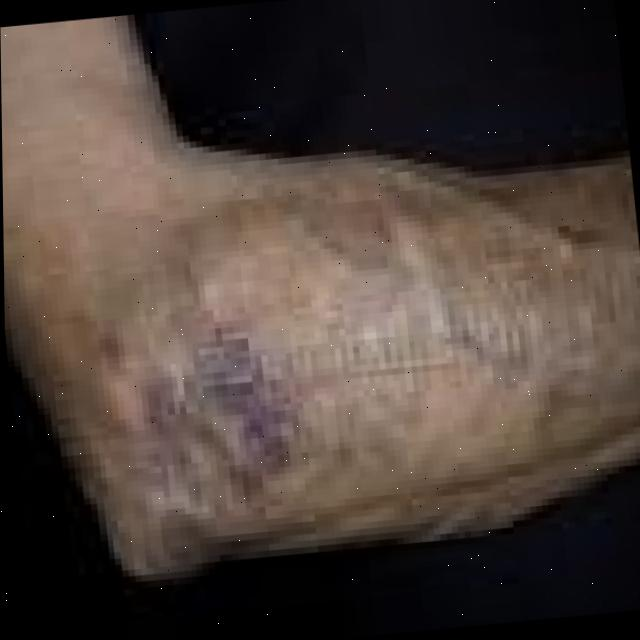Melasma: (173, 343, 292, 462)
